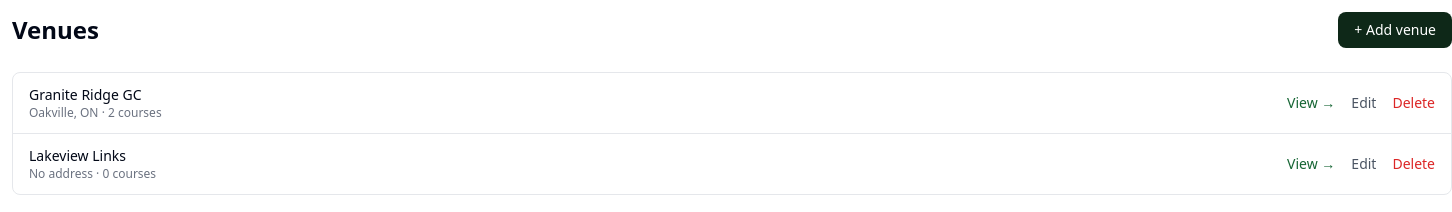
Test case: VenueListClient › shows delete confirm row on Delete click
Click the button "Delete" in the row of "Granite Ridge GC": (1414, 103) [1392,93,1435,113]
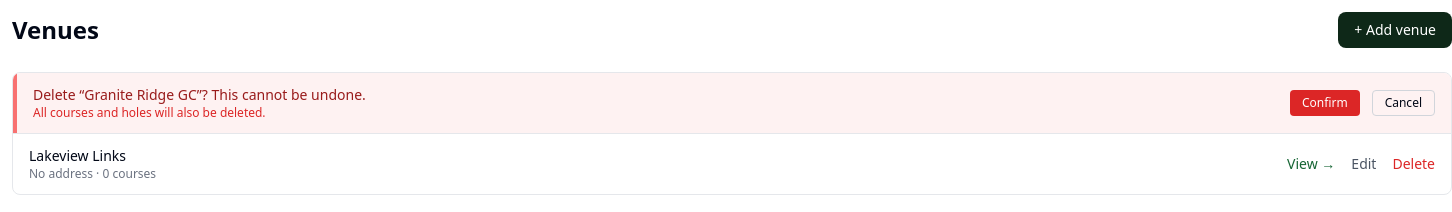
Expected: the button "Confirm" is shown, [1290,90,1360,116]
